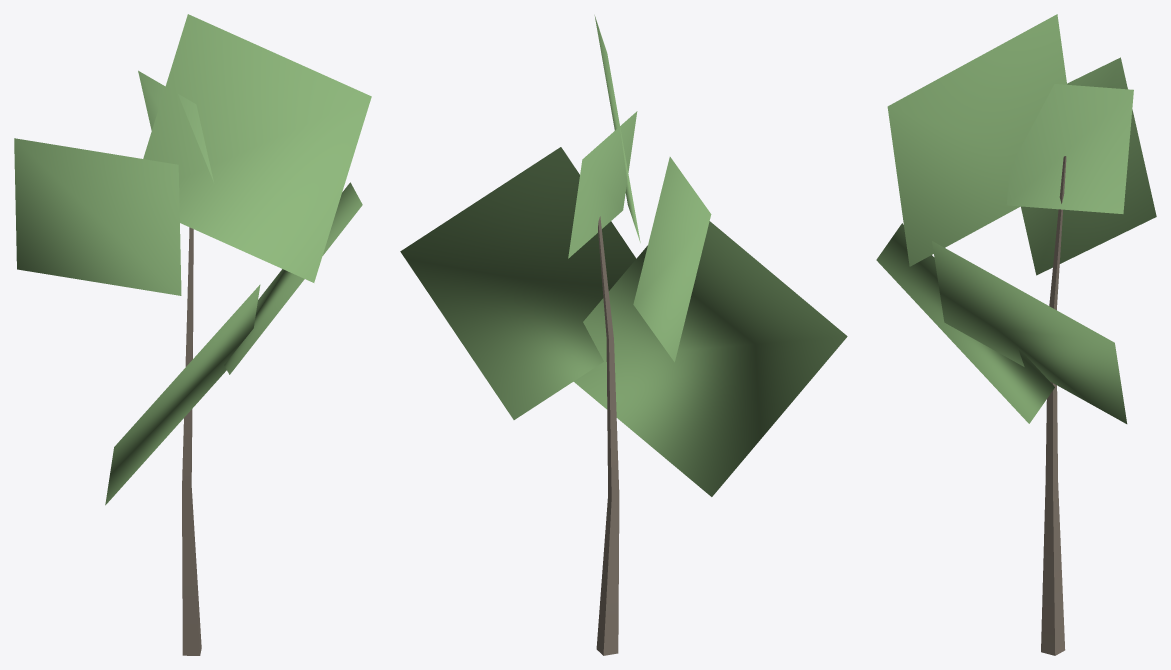
Rendered from tree_birch_b_lod2.glb.
The picture shows the model from 3 angles, left to right: view 1: azimuth 30°, elevation 25°; view 2: azimuth 150°, elevation 25°; view 3: azimuth 270°, elevation 25°; orthographic projection. The views are drawn at different scales.
Parts seen in each view (by area): view 1: tree_birch_b_lod2; view 2: tree_birch_b_lod2; view 3: tree_birch_b_lod2.
Part boxes in pixels (left/top/right/bottom): tree_birch_b_lod2: left=14, top=14, right=371, bottom=655; tree_birch_b_lod2: left=400, top=15, right=847, bottom=655; tree_birch_b_lod2: left=876, top=14, right=1156, bottom=655.
Bounding box in the file's own units: 8.41 × 14.39 × 5.75.
